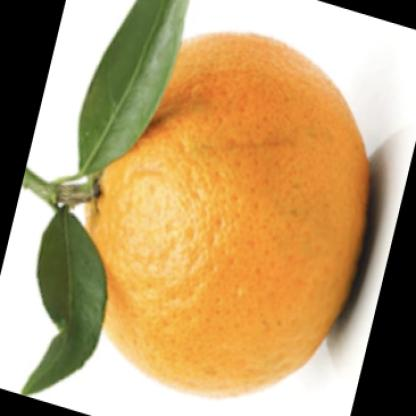fresh: (73, 33, 373, 399)
